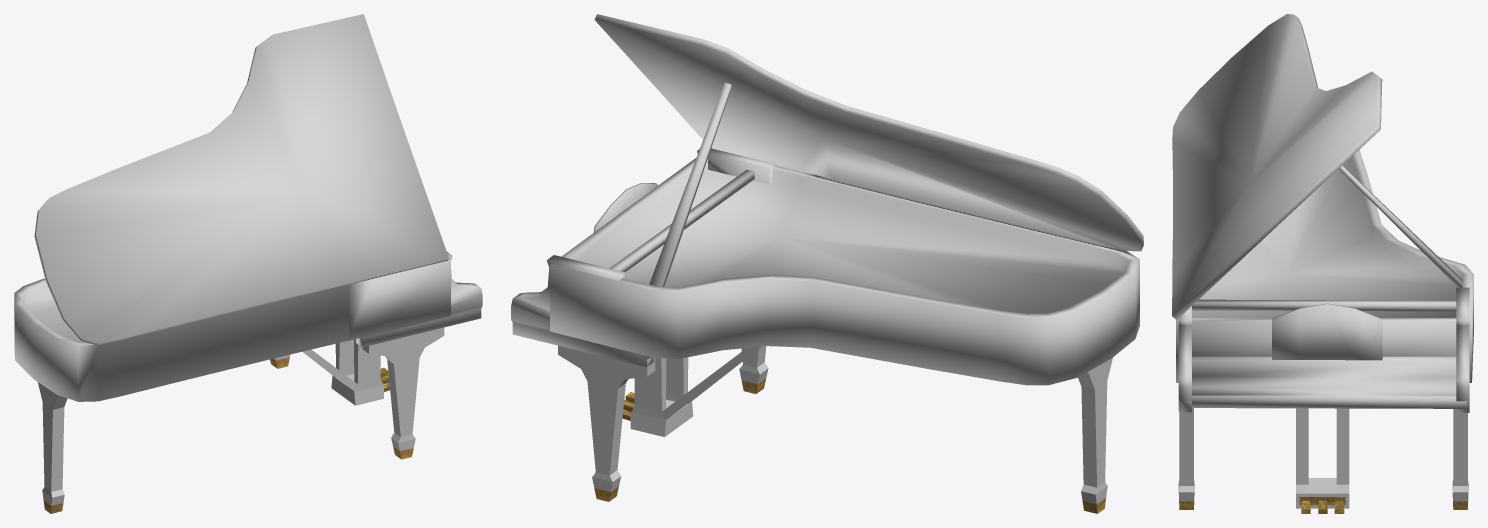
File: Piano_Grand.fbx
3 views of the same model, side by side, from view 1: azimuth 30°, elevation 25°; view 2: azimuth 150°, elevation 25°; view 3: azimuth 270°, elevation 25° (orthographic). The views are drawn at different scales.
Visible parts, largest first — view 1: Piano_Grand; view 2: Piano_Grand; view 3: Piano_Grand.
Boxes of the visible parts, x1,y1,x2,y2 form: Piano_Grand: (14, 14, 482, 513); Piano_Grand: (511, 14, 1143, 513); Piano_Grand: (1172, 14, 1473, 513).
Bounding box in the file's own units: 564 × 483 × 324.
